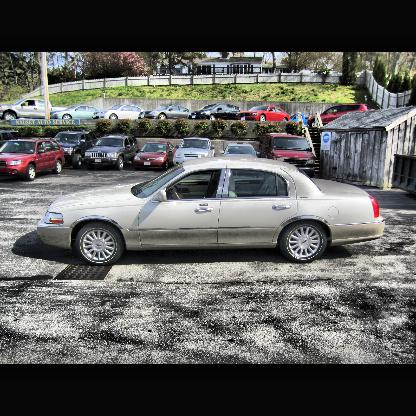Lincoln Town Car Sedan 2011: (38, 157, 385, 270)
